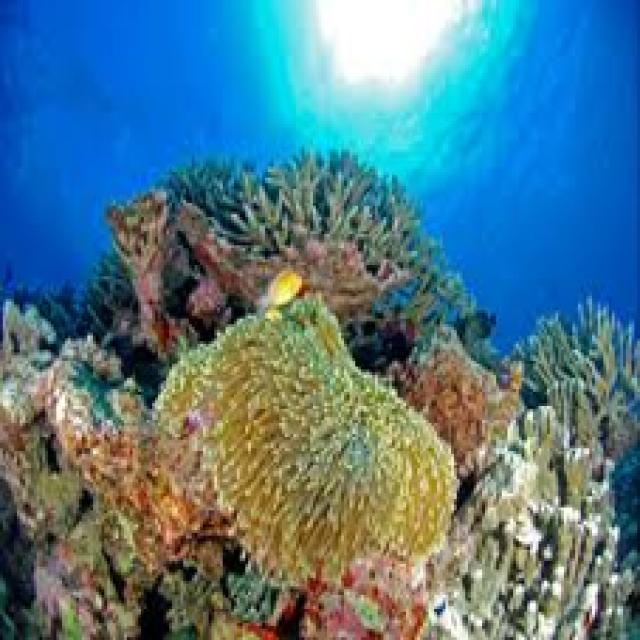Healthy: (159, 300, 455, 571), (108, 150, 469, 322), (1, 305, 145, 638), (441, 407, 616, 638), (91, 415, 232, 568), (393, 331, 517, 489), (511, 300, 638, 452), (303, 559, 424, 638)
